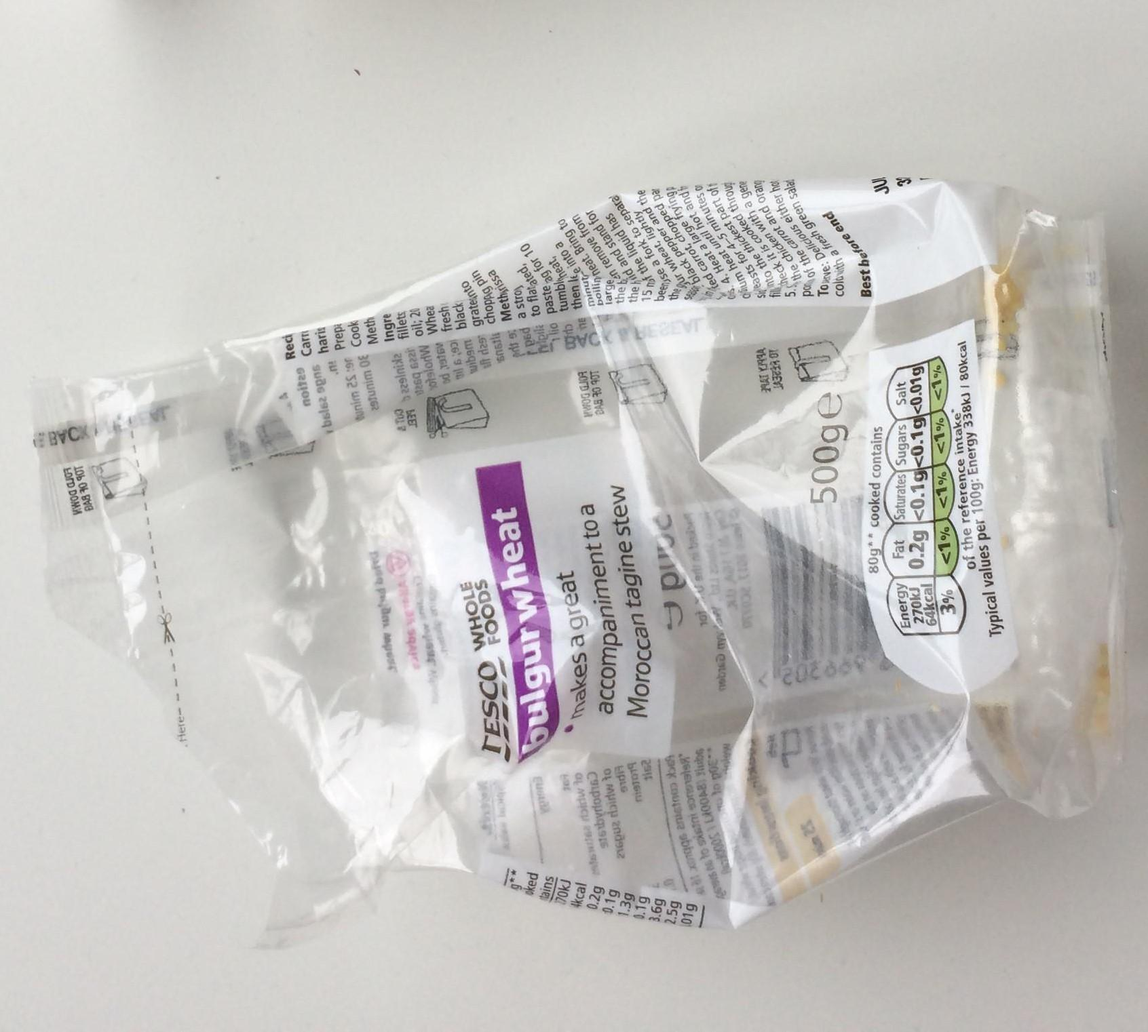Plastic: (10, 149, 1148, 979)
